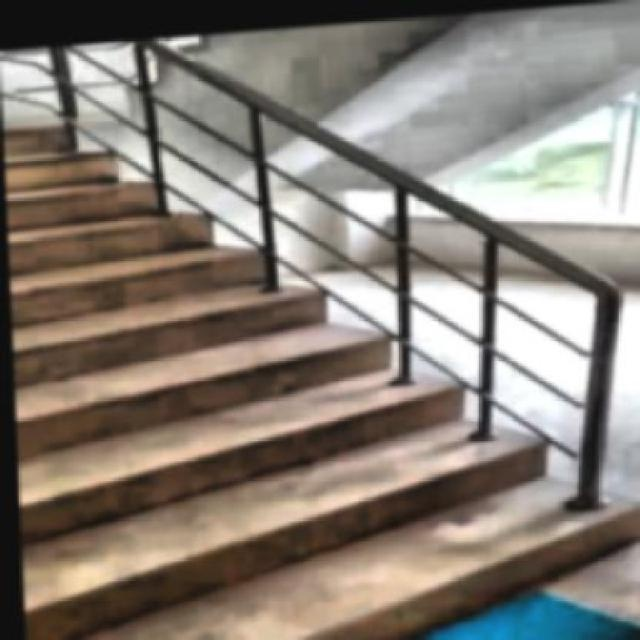stair: (3, 71, 625, 638)
